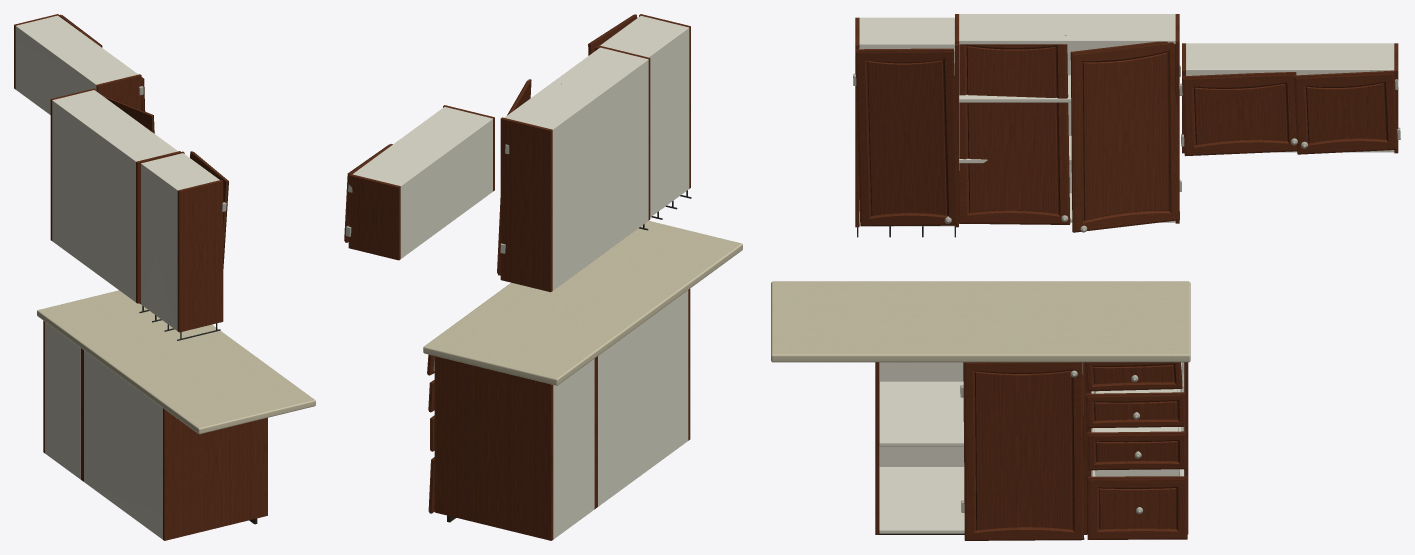
Rendered from cabinetry_shell__prep_run.glb.
3 views of the same model, side by side, from view 1: azimuth 30°, elevation 25°; view 2: azimuth 150°, elevation 25°; view 3: azimuth 270°, elevation 25° (orthographic). The views are drawn at different scales.
Parts seen in each view (by area): view 1: prep_base_carcass, prep_countertop, upper_dishes_carcass, upper_pantry_carcass, upper_fridge_carcass, drawer_stack_carcass, upper_pantry_door, upper_dishes_right; view 2: upper_dishes_carcass, drawer_stack_carcass, prep_countertop, upper_fridge_carcass, prep_base_carcass, upper_pantry_carcass, upper_dishes_right; view 3: prep_countertop, prep_base_door, upper_dishes_right, upper_dishes_left, upper_pantry_door, prep_base_carcass, upper_fridge_left, upper_dishes_carcass, upper_fridge_right, upper_fridge_carcass, fridge_side_drawer_4, upper_pantry_carcass (+4 smaller).
Boxes of the visible parts, x1,y1,x2,y2 form: prep_base_carcass: (82,349,267,540); prep_countertop: (37,290,315,434); upper_dishes_carcass: (50,88,181,303); upper_pantry_carcass: (140,151,223,332); upper_fridge_carcass: (14,14,141,114); drawer_stack_carcass: (43,320,82,480); upper_pantry_door: (190,151,228,268); upper_dishes_right: (99,93,154,133); upper_dishes_carcass: (500,45,650,292); drawer_stack_carcass: (434,356,596,540); prep_countertop: (423,221,742,385); upper_fridge_carcass: (348,105,494,260); prep_base_carcass: (596,289,690,507); upper_pantry_carcass: (595,14,690,217); upper_dishes_right: (497,79,531,275); prep_countertop: (771,281,1190,362); prep_base_door: (960,362,1084,540); upper_dishes_right: (1070,41,1181,232); upper_dishes_left: (954,35,1070,224); upper_pantry_door: (853,48,958,226); prep_base_carcass: (875,362,1087,534); upper_fridge_left: (1179,72,1297,156); upper_dishes_carcass: (955,14,1179,223); upper_fridge_right: (1294,70,1400,154); upper_fridge_carcass: (1182,43,1398,153); fridge_side_drawer_4: (1087,469,1187,539); upper_pantry_carcass: (855,17,958,227).
Size of the model in its own units: 0.8011 by 2.32 by 2.84.
Materials: 6 (2 with a texture image).
